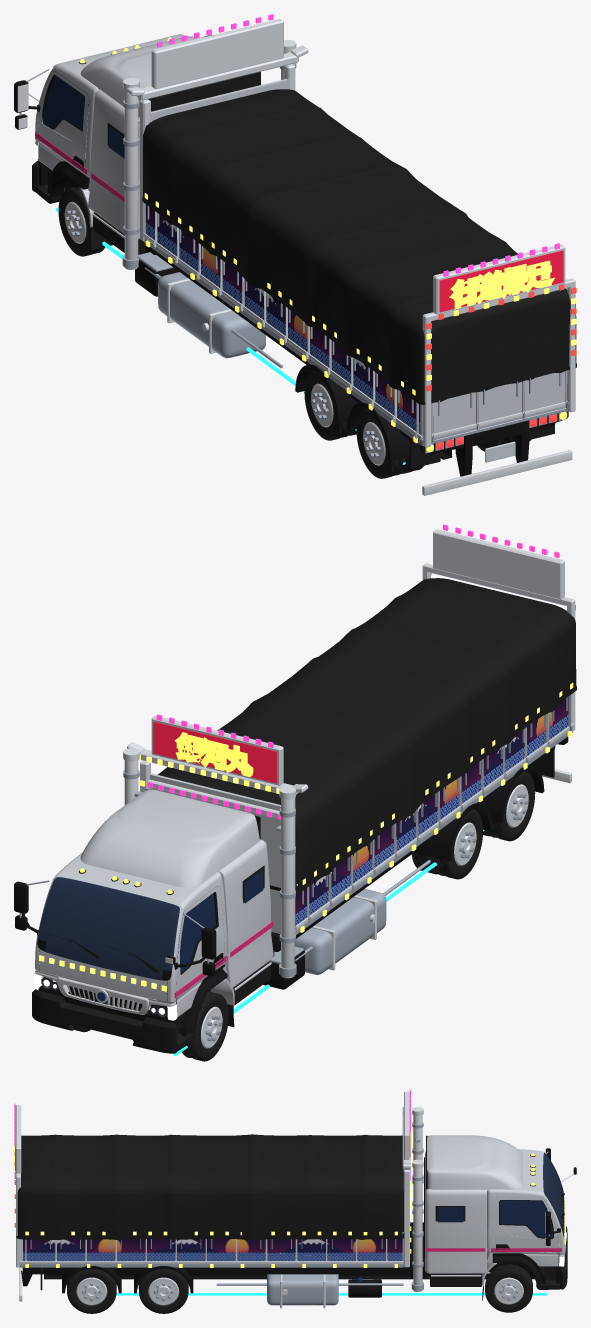
Rendered from dekotora_truck_graneleira_chata.glb.
3 views of the same model, one above another, from view 1: azimuth 30°, elevation 25°; view 2: azimuth 150°, elevation 25°; view 3: azimuth 270°, elevation 25° (orthographic). The views are drawn at different scales.
Visible parts, largest first — view 1: truck_plastic_trim, truck_chrome, truck_paint_white_panel, truck_steel, truck_plastic_black, truck_mural, truck_lamp_amber, wheel_r_L_1.5_1.06, truck_glass, wheel_f_L, wheel_r_L_3.0_1.06, truck_andon_panel (+3 smaller); view 2: truck_plastic_trim, truck_paint_white_panel, truck_chrome, truck_glass_wind, truck_plastic_black, truck_steel, truck_mural, truck_lamp_amber, truck_andon_panel, wheel_f_L, wheel_r_L_3.0_1.06, wheel_r_L_1.5_1.06 (+3 smaller); view 3: truck_plastic_trim, truck_paint_white_panel, truck_mural, truck_plastic_black, truck_chrome, truck_steel, wheel_f_R, wheel_r_R_3.0_1.06, wheel_r_R_1.5_1.06, truck_glass, truck_glass_wind, truck_lamp_amber (+3 smaller).
Part boxes in pixels (x1,y1,x2,y2): truck_plastic_trim: (32,71,576,404); truck_chrome: (17,18,575,495); truck_paint_white_panel: (35,34,564,433); truck_steel: (19,36,568,453); truck_plastic_black: (14,35,568,476); truck_mural: (145,204,420,434); truck_lamp_amber: (79,37,576,452); wheel_r_L_1.5_1.06: (356,408,407,478); truck_glass: (44,76,124,158); wheel_f_L: (58,186,105,256); wheel_r_L_3.0_1.06: (304,370,352,440); truck_andon_panel: (439,250,563,312); truck_plastic_trim: (32,578,576,1053); truck_paint_white_panel: (35,773,280,1017); truck_chrome: (27,529,575,1014); truck_glass_wind: (37,877,179,980); truck_plastic_black: (14,736,568,1036); truck_steel: (19,695,572,976); truck_mural: (295,697,568,925); truck_lamp_amber: (39,615,575,991); truck_andon_panel: (153,721,277,783); wheel_f_L: (182,991,228,1061); wheel_r_L_3.0_1.06: (432,809,482,879); wheel_r_L_1.5_1.06: (487,771,535,841); truck_plastic_trim: (16,1134,567,1289); truck_paint_white_panel: (402,1135,564,1285); truck_mural: (23,1239,402,1260); truck_plastic_black: (21,1148,576,1297); truck_chrome: (15,1091,576,1308); truck_steel: (20,1122,549,1305); wheel_f_R: (485,1264,532,1312); wheel_r_R_3.0_1.06: (138,1269,188,1313); wheel_r_R_1.5_1.06: (67,1269,116,1313); truck_glass: (437,1200,552,1237); truck_glass_wind: (543,1152,564,1234); truck_lamp_amber: (14,1109,565,1270).
Size of the model in its own units: 3.33 by 4.15 by 11.74.
21 materials, 5 textured.
